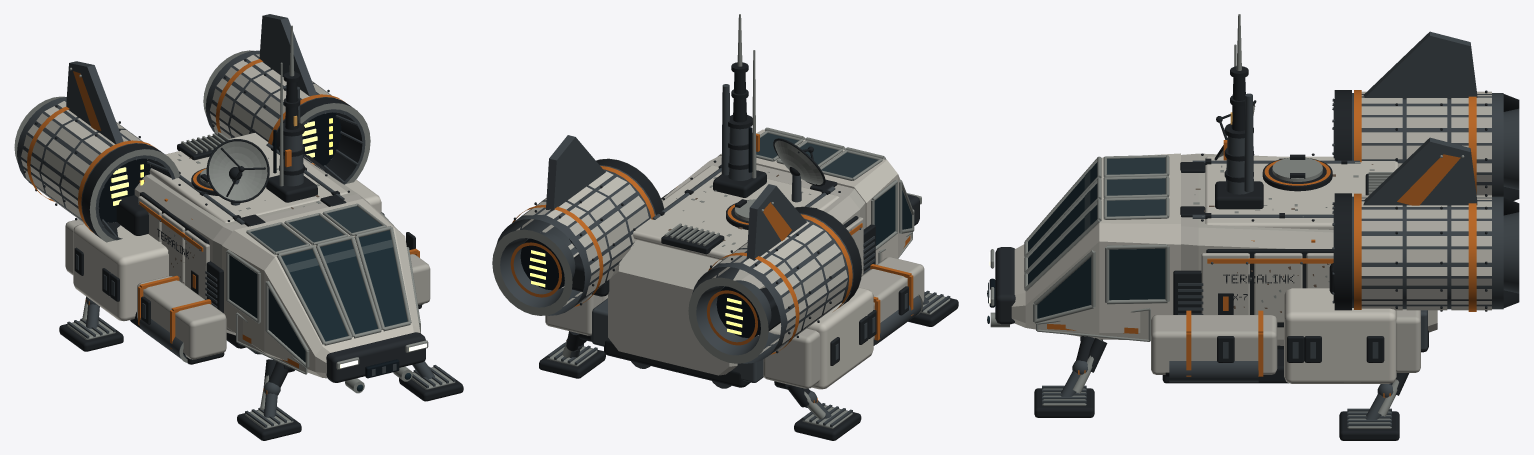
Rendered from pioneer-ex7.glb.
The picture shows the model from 3 angles, left to right: view 1: azimuth 30°, elevation 25°; view 2: azimuth 150°, elevation 25°; view 3: azimuth 270°, elevation 25°; orthographic projection. The views are drawn at different scales.
Visible parts, largest first — view 1: Faceted cockpit and canopy, Twin armoured engines, Side cargo and service equipment, Armoured fuselage, Roof hatch and communications, Articulated landing gear; view 2: Twin armoured engines, Armoured fuselage, Side cargo and service equipment, Roof hatch and communications, Faceted cockpit and canopy, Articulated landing gear; view 3: Twin armoured engines, Faceted cockpit and canopy, Armoured fuselage, Side cargo and service equipment, Roof hatch and communications, Articulated landing gear.
Part boxes in pixels (<box>): Faceted cockpit and canopy: <box>222,198,428,393</box>; Twin armoured engines: <box>14,14,370,242</box>; Side cargo and service equipment: <box>65,179,430,364</box>; Armoured fuselage: <box>134,133,370,354</box>; Roof hatch and communications: <box>177,25,346,226</box>; Articulated landing gear: <box>59,296,463,440</box>; Twin armoured engines: <box>492,135,862,363</box>; Armoured fuselage: <box>592,156,875,388</box>; Side cargo and service equipment: <box>545,252,924,389</box>; Roof hatch and communications: <box>651,14,837,254</box>; Faceted cockpit and canopy: <box>717,127,921,264</box>; Articulated landing gear: <box>539,290,958,440</box>; Twin armoured engines: <box>1329,31,1519,311</box>; Faceted cockpit and canopy: <box>987,153,1180,341</box>; Armoured fuselage: <box>1173,153,1437,352</box>; Side cargo and service equipment: <box>1151,288,1420,383</box>; Roof hatch and communications: <box>1180,14,1393,219</box>; Articulated landing gear: <box>1034,336,1409,440</box>.
Bounding box in the file's own units: 6.68 × 7.16 × 9.59.
